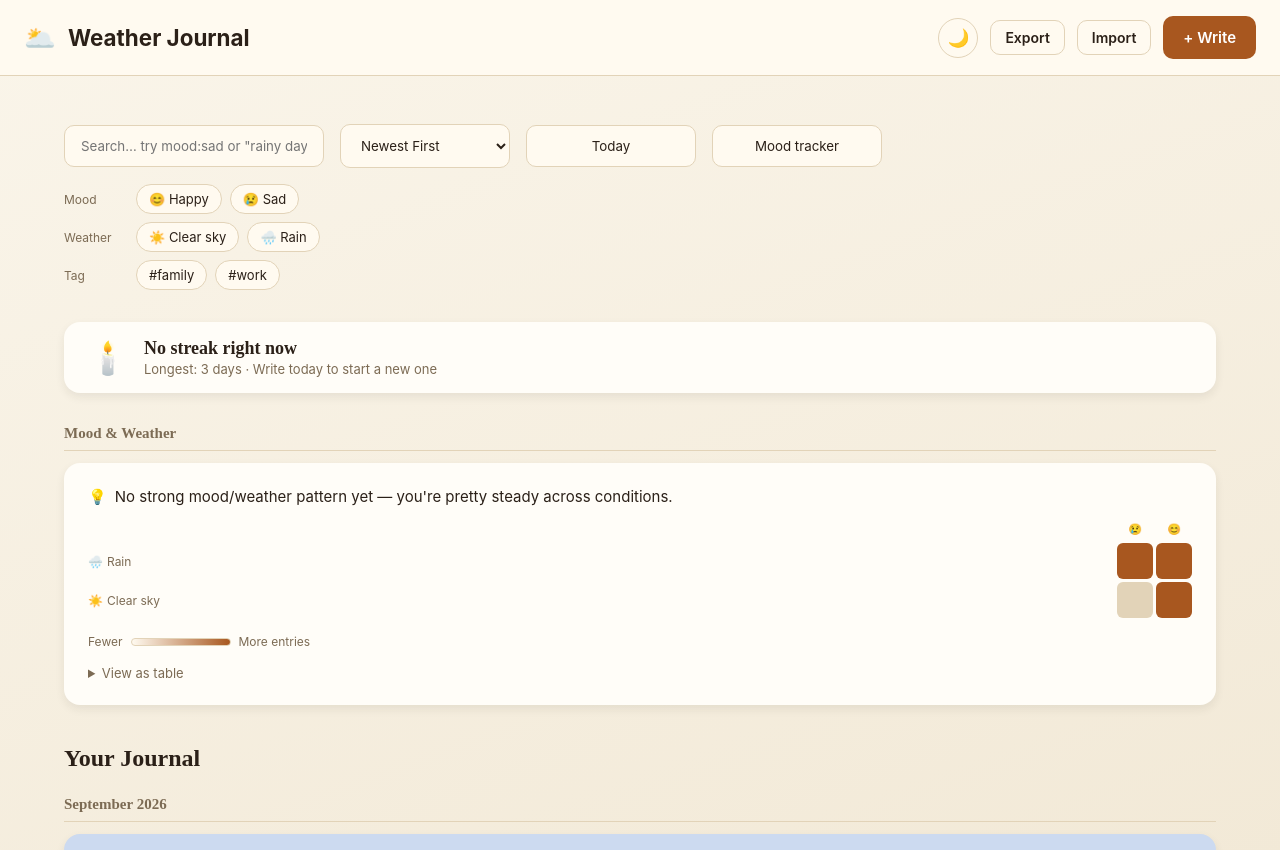
Test: Dashboard filters › combines groups, and Clear filters resets them
This screenshot has width=1280, height=850.
Click the button "😊 Happy": (179, 199) [136,184,222,214]
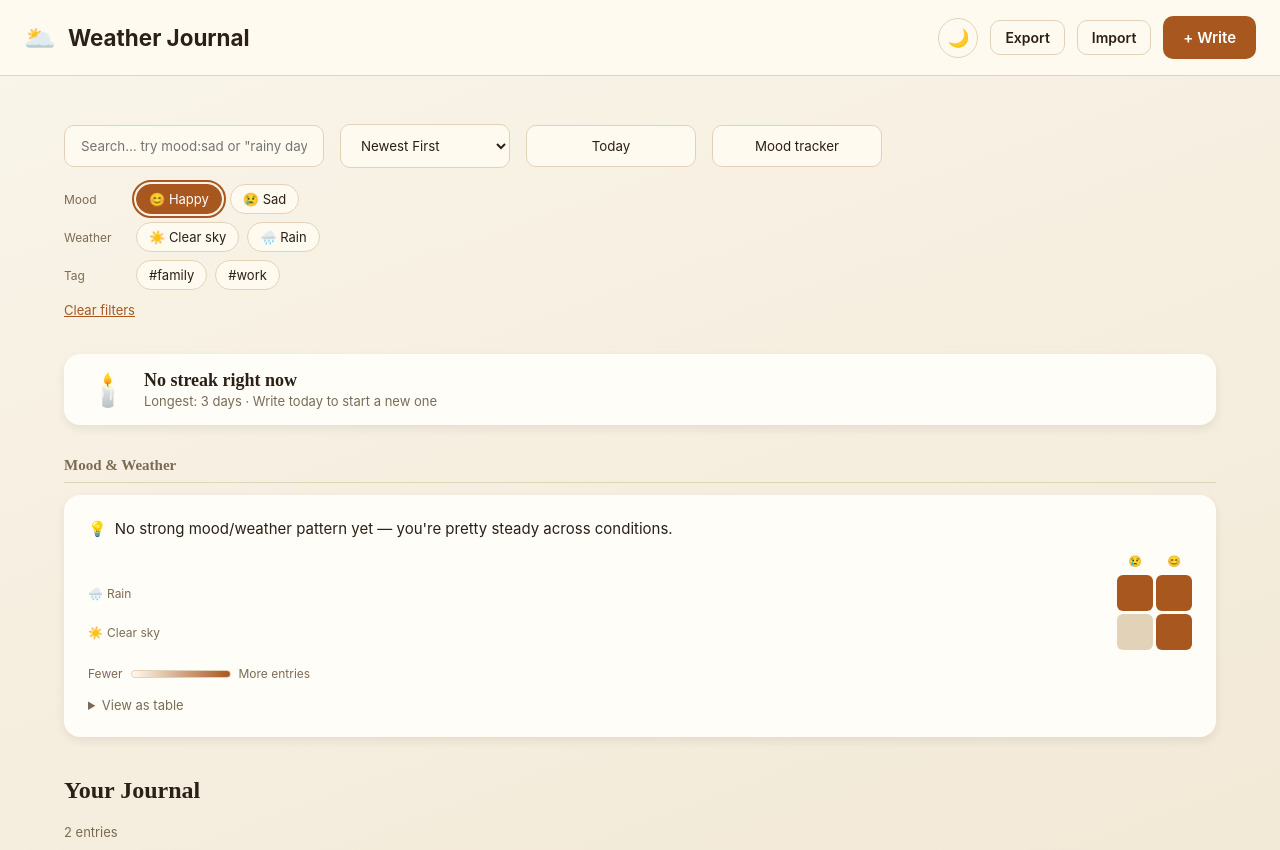
Click the button "🌧️ Rain": (284, 237) [247,222,320,252]
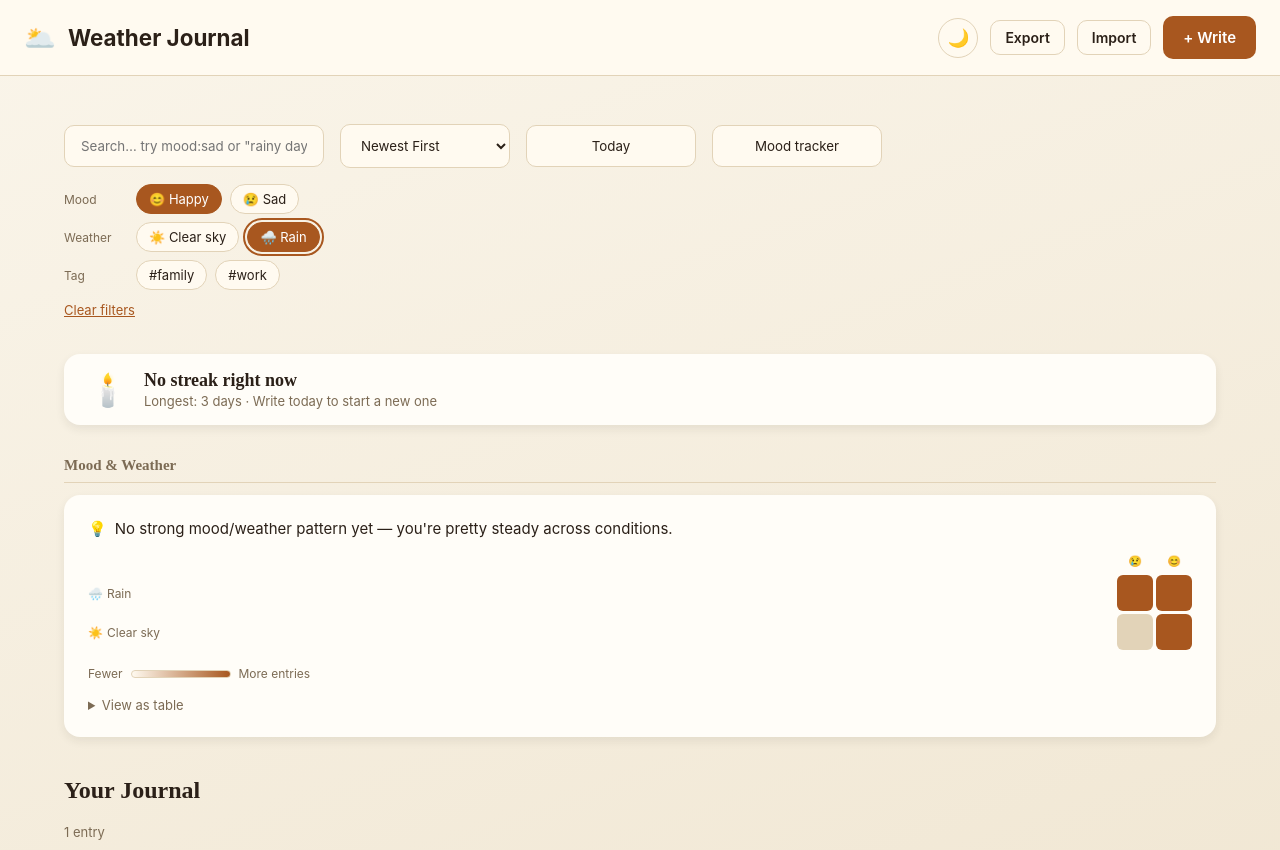
Now the message reads "1 entry", box [64,824,105,840]
Click the button "Clear filters": (100, 310) [64,298,135,322]
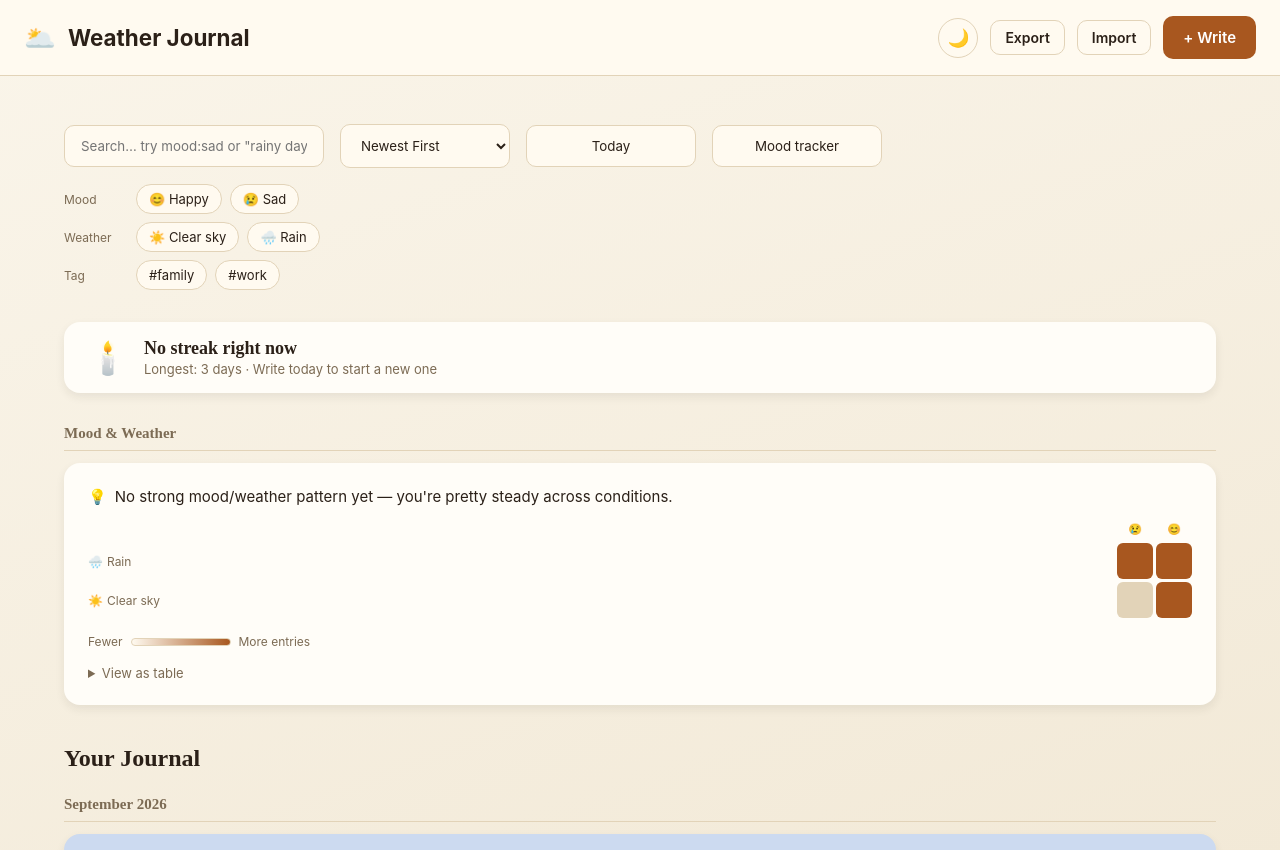
Now the message "1 entry" is gone
Now the button "Clear filters" is gone
